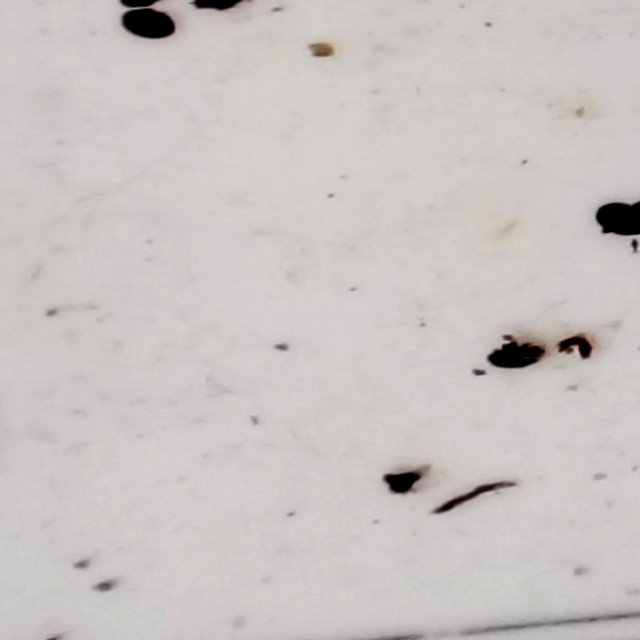varroa: (111, 7, 173, 47), (483, 340, 548, 375), (593, 199, 633, 242)
